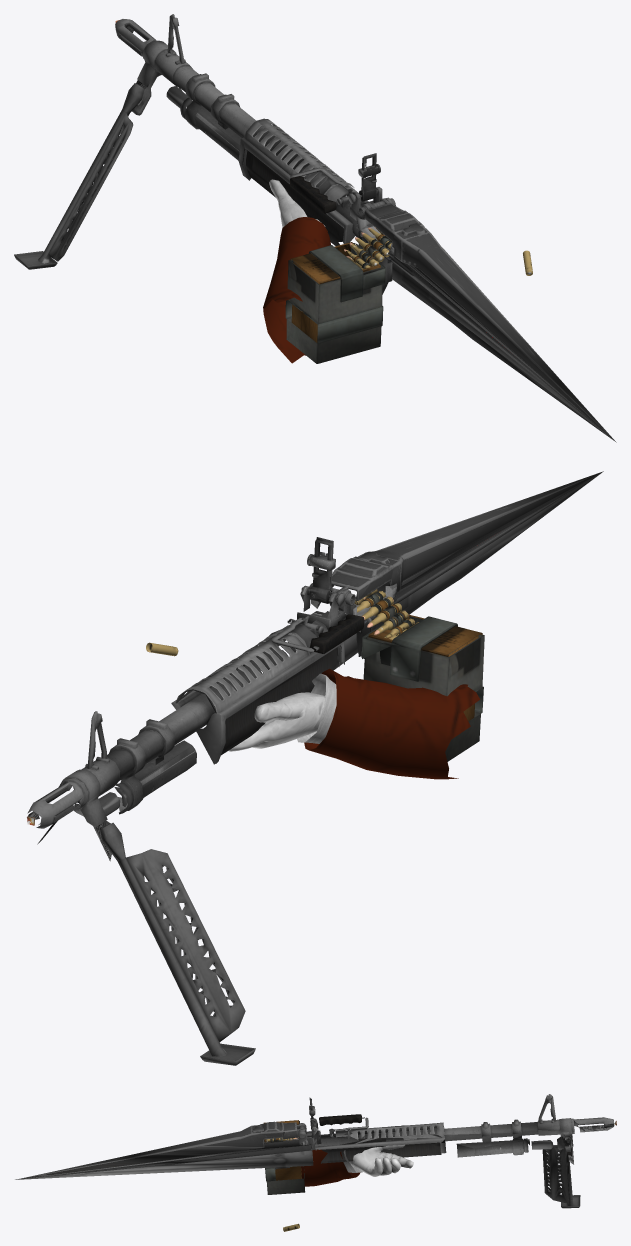
The model's file is frame_28.obj.
3 renders of one model, top to bottom at view 1: azimuth 30°, elevation 25°; view 2: azimuth 150°, elevation 25°; view 3: azimuth 270°, elevation 25°, orthographic. The views are drawn at different scales.
Parts seen in each view (by area): view 1: Mesh.005, PlayerModelMerged.001_PlayerModelMerged, Mesh.001; view 2: Mesh.005, PlayerModelMerged.001_PlayerModelMerged, Mesh.001; view 3: Mesh.005, PlayerModelMerged.001_PlayerModelMerged.
Boxes of the visible parts, x1,y1,x2,y2 form: Mesh.005: (14, 14, 616, 442); PlayerModelMerged.001_PlayerModelMerged: (263, 179, 330, 363); Mesh.001: (344, 227, 392, 268); Mesh.005: (27, 471, 603, 1065); PlayerModelMerged.001_PlayerModelMerged: (228, 668, 480, 779); Mesh.001: (355, 591, 414, 637); Mesh.005: (15, 1094, 614, 1208); PlayerModelMerged.001_PlayerModelMerged: (301, 1144, 413, 1186).
Bounding box in the file's own units: 0.8107 × 0.6137 × 2.27.
